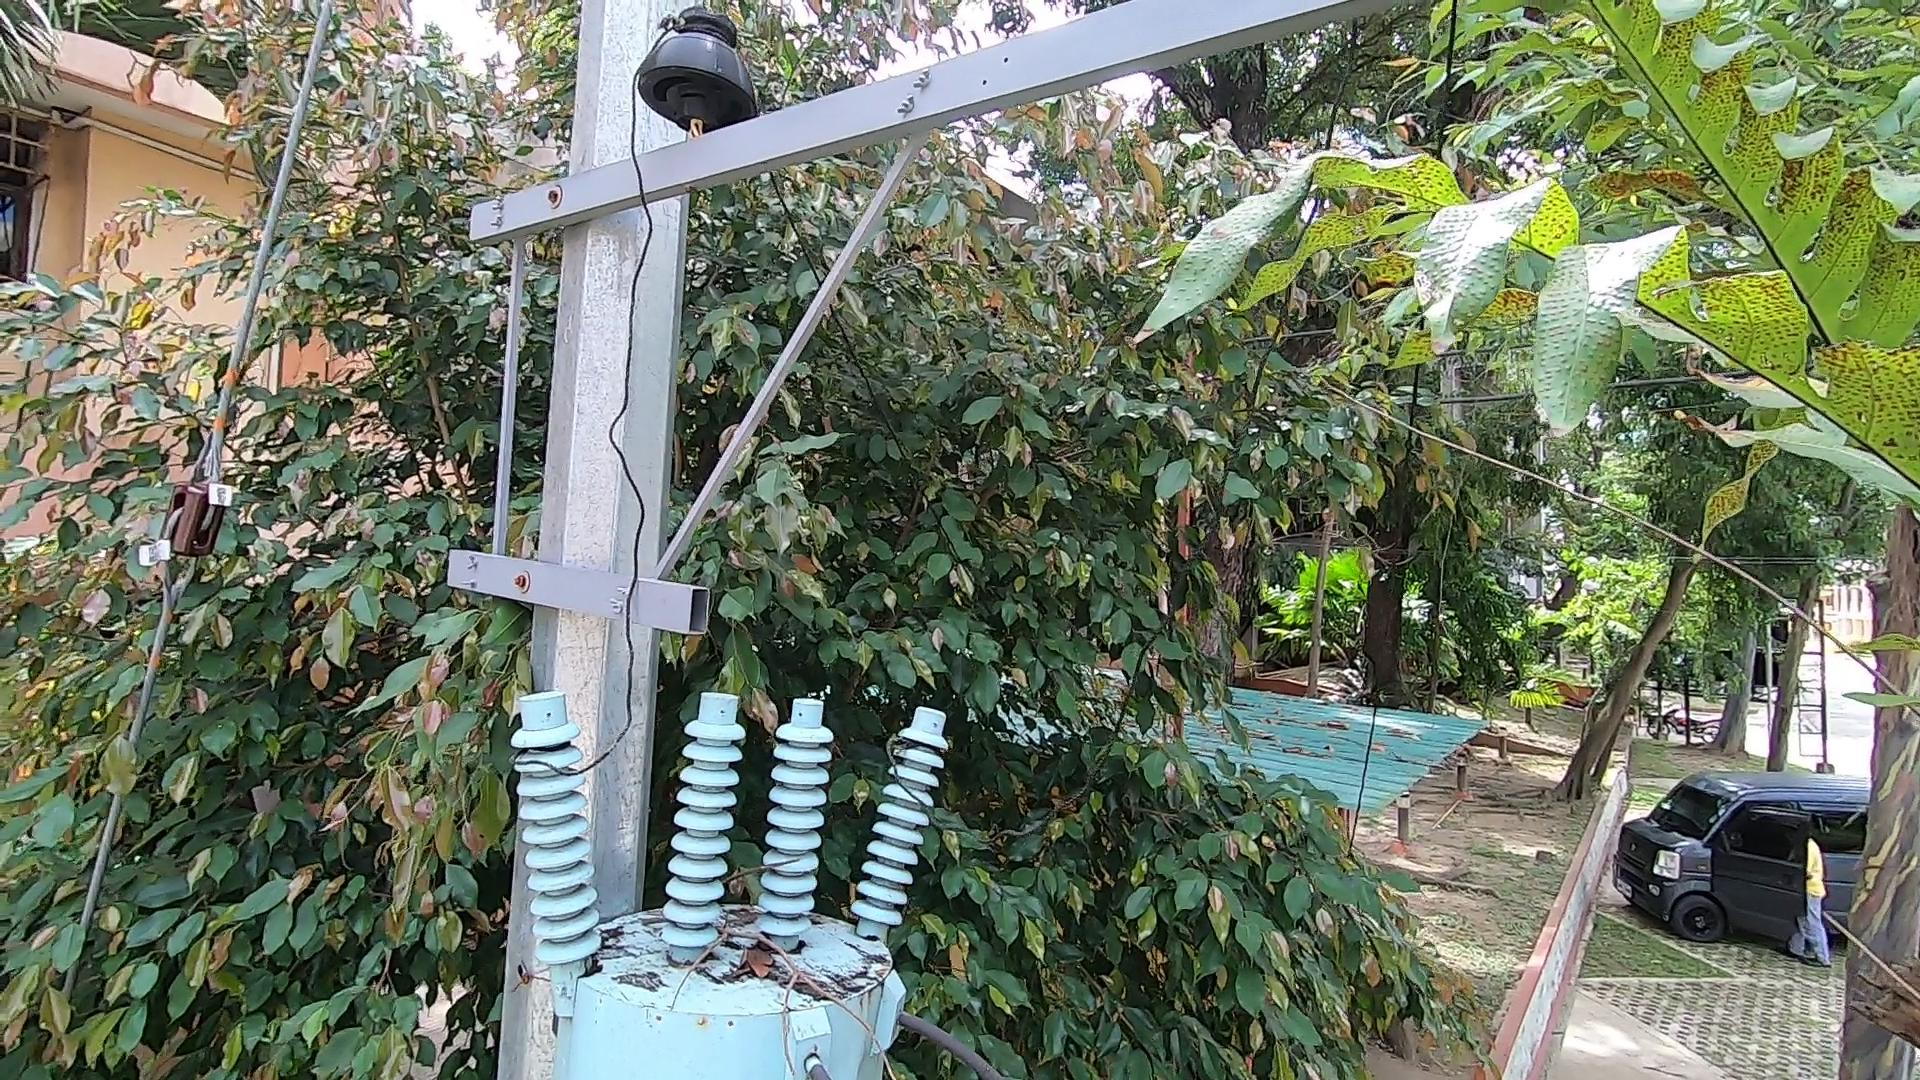leaf: (727, 932, 799, 992)
tree branch: (688, 905, 903, 1080)
